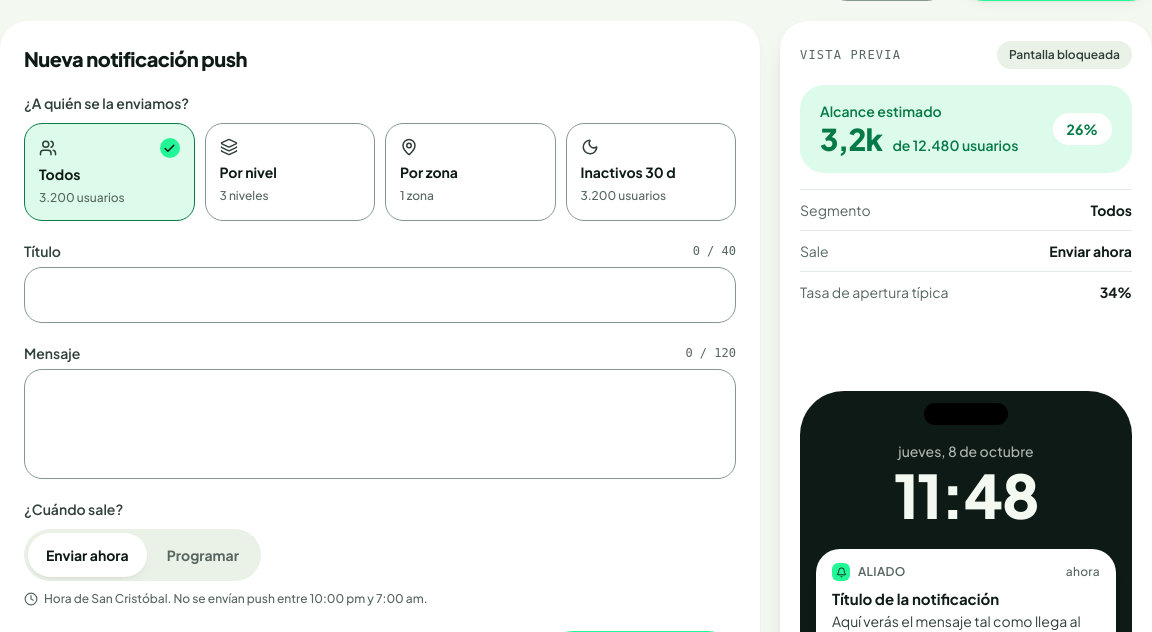
Test case: B12 · pantalla › si el servidor reprograma por horario silencioso lo avisa
Type "Hola" into the field labelled "Título" at {"x": 380, "y": 295}, box [25,268,735,322]
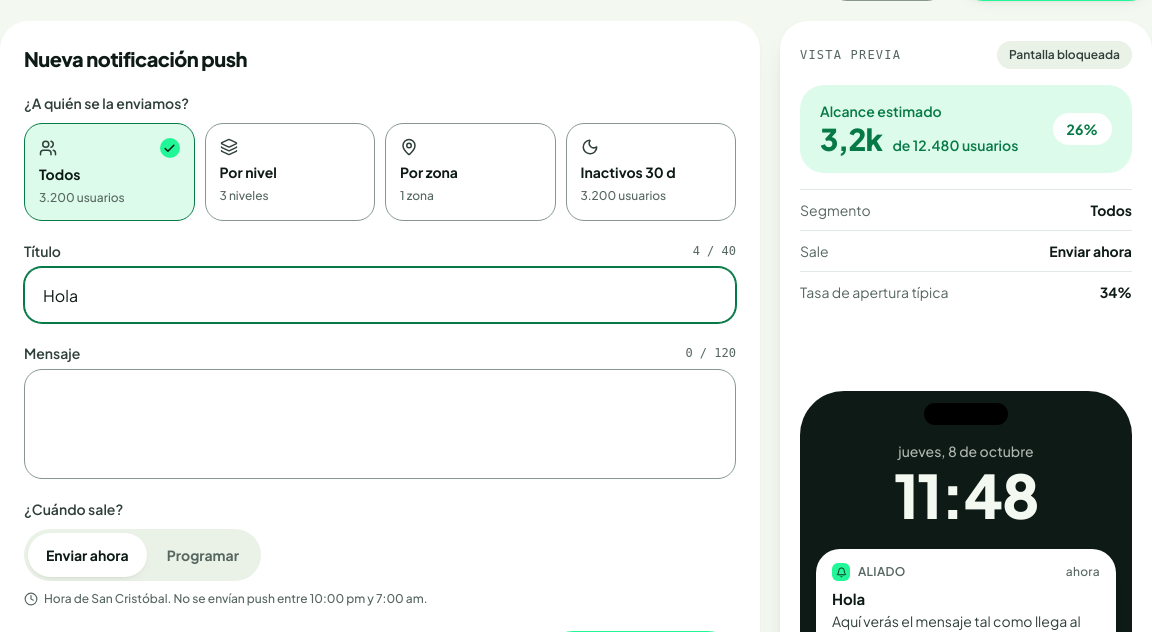
Type "Mundo" into the text box labelled "Mensaje" at {"x": 380, "y": 424}, box [24,369,736,479]
(page scrolled)
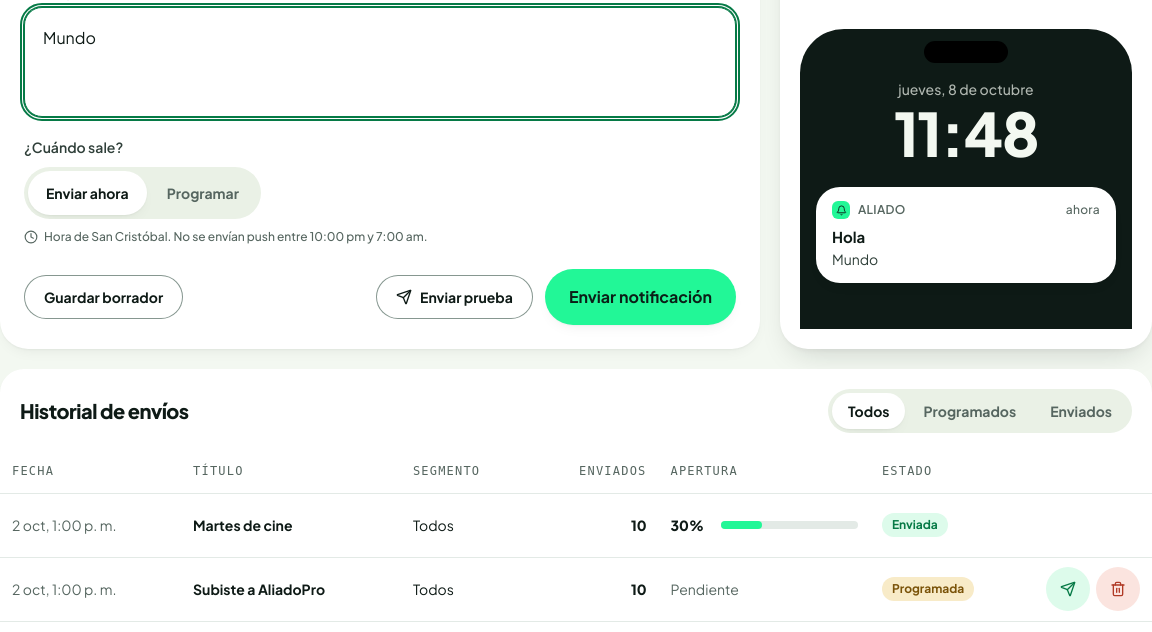
Click the button "Enviar notificación" at {"x": 640, "y": 297}, box [545,269,736,325]
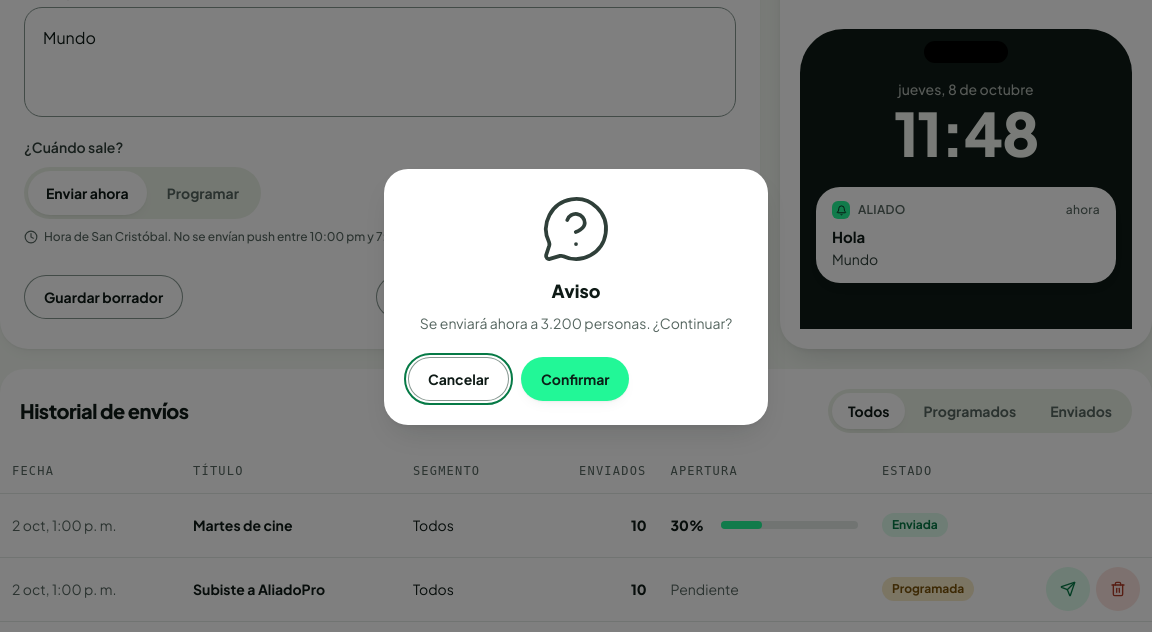
Click the button "Confirmar" at {"x": 575, "y": 379}, box [521,357,630,401]
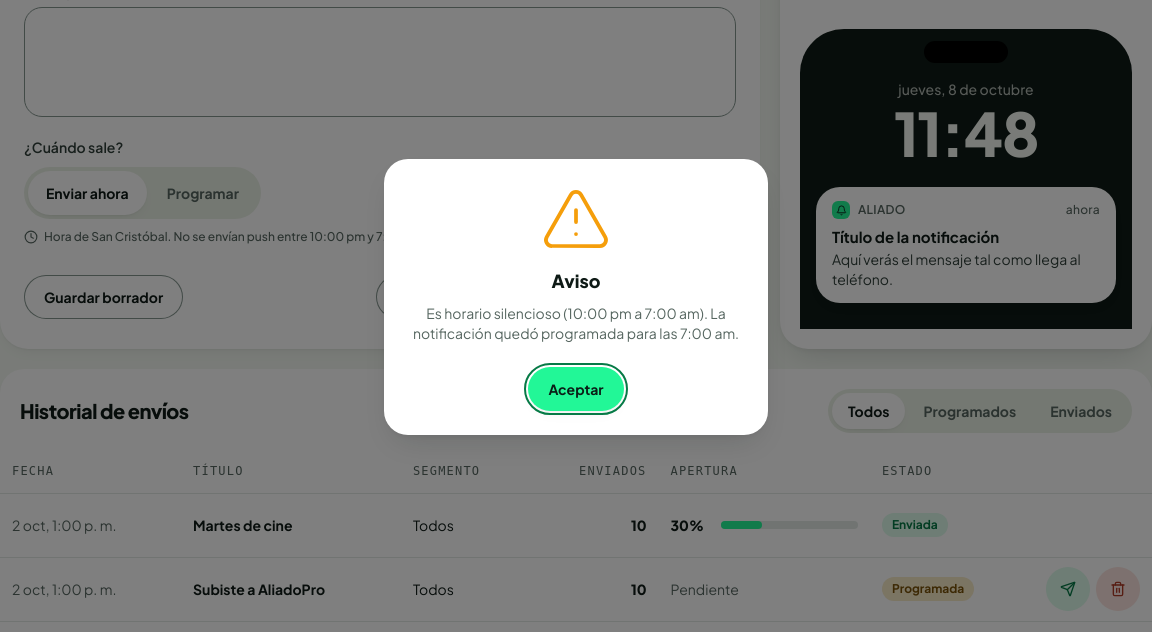
Result: the text "quedó programada para las 7:00 am" is shown at [413,304,739,342]
